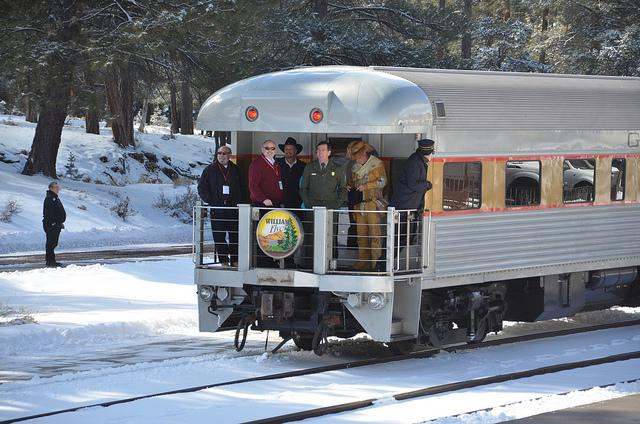Train: (193, 61, 640, 356)
